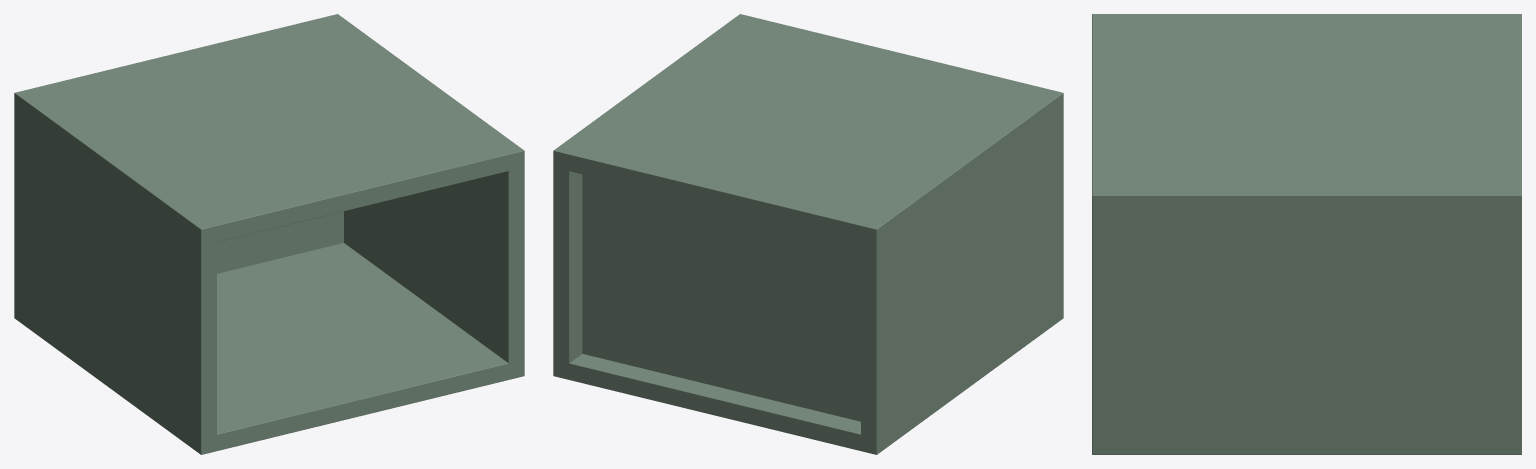
The model's file is MOD_1X07_A_B_VA.glb.
3 views of the same model, side by side, from view 1: azimuth 30°, elevation 25°; view 2: azimuth 150°, elevation 25°; view 3: azimuth 270°, elevation 25° (orthographic). The views are drawn at different scales.
Bounding box in the file's own units: 360 × 240 × 360.
